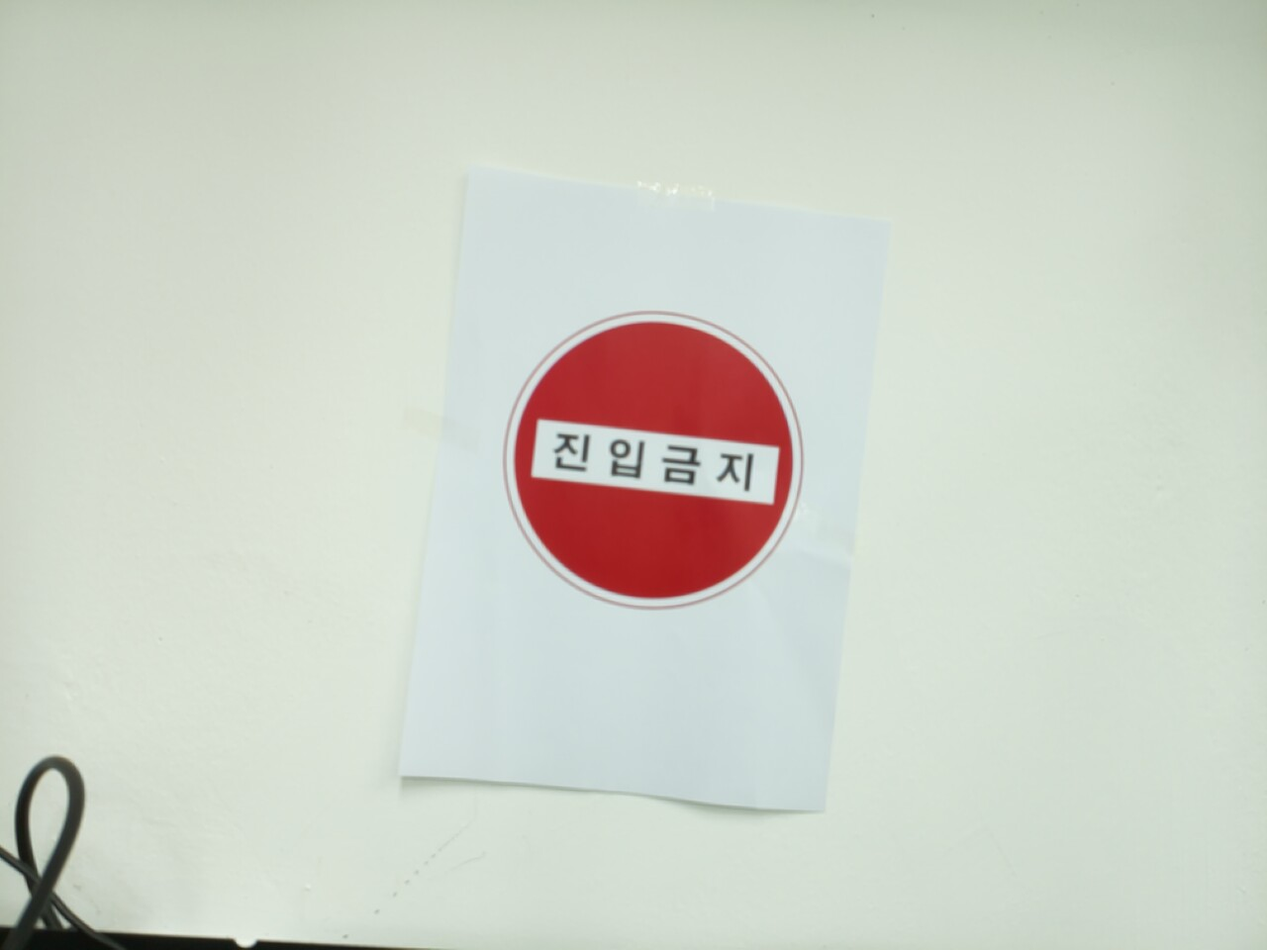do_not_enter: (505, 313, 802, 608)
